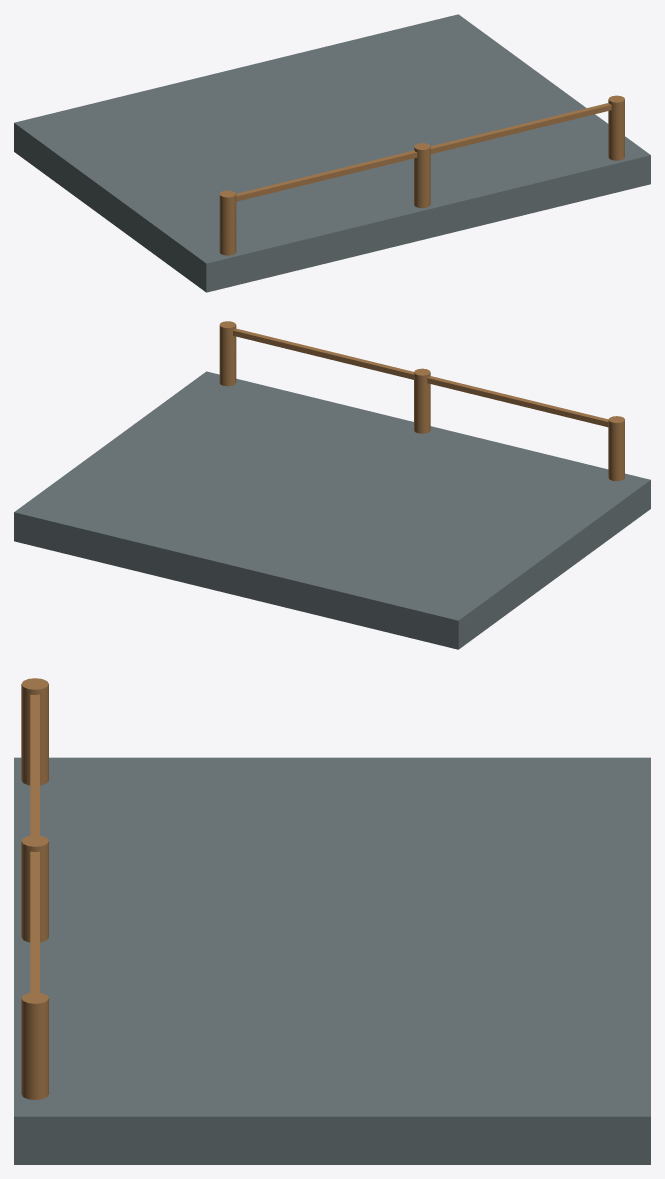
The model's file is quay.lod2.glb.
The picture shows the model from 3 angles, top to bottom: view 1: azimuth 30°, elevation 25°; view 2: azimuth 150°, elevation 25°; view 3: azimuth 270°, elevation 25°; orthographic projection. The views are drawn at different scales.
Visible parts, largest first — view 1: structure; view 2: structure; view 3: structure.
Boxes of the visible parts, x1,y1,x2,y2 form: structure: (14, 14, 650, 292); structure: (14, 321, 650, 649); structure: (14, 678, 650, 1164).
Size of the model in its own units: 8 by 1.5 by 6.
